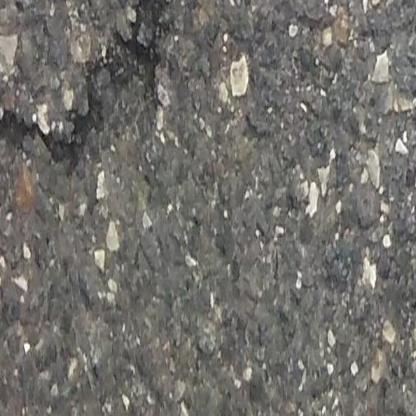Cracks: (0, 0, 196, 184)
